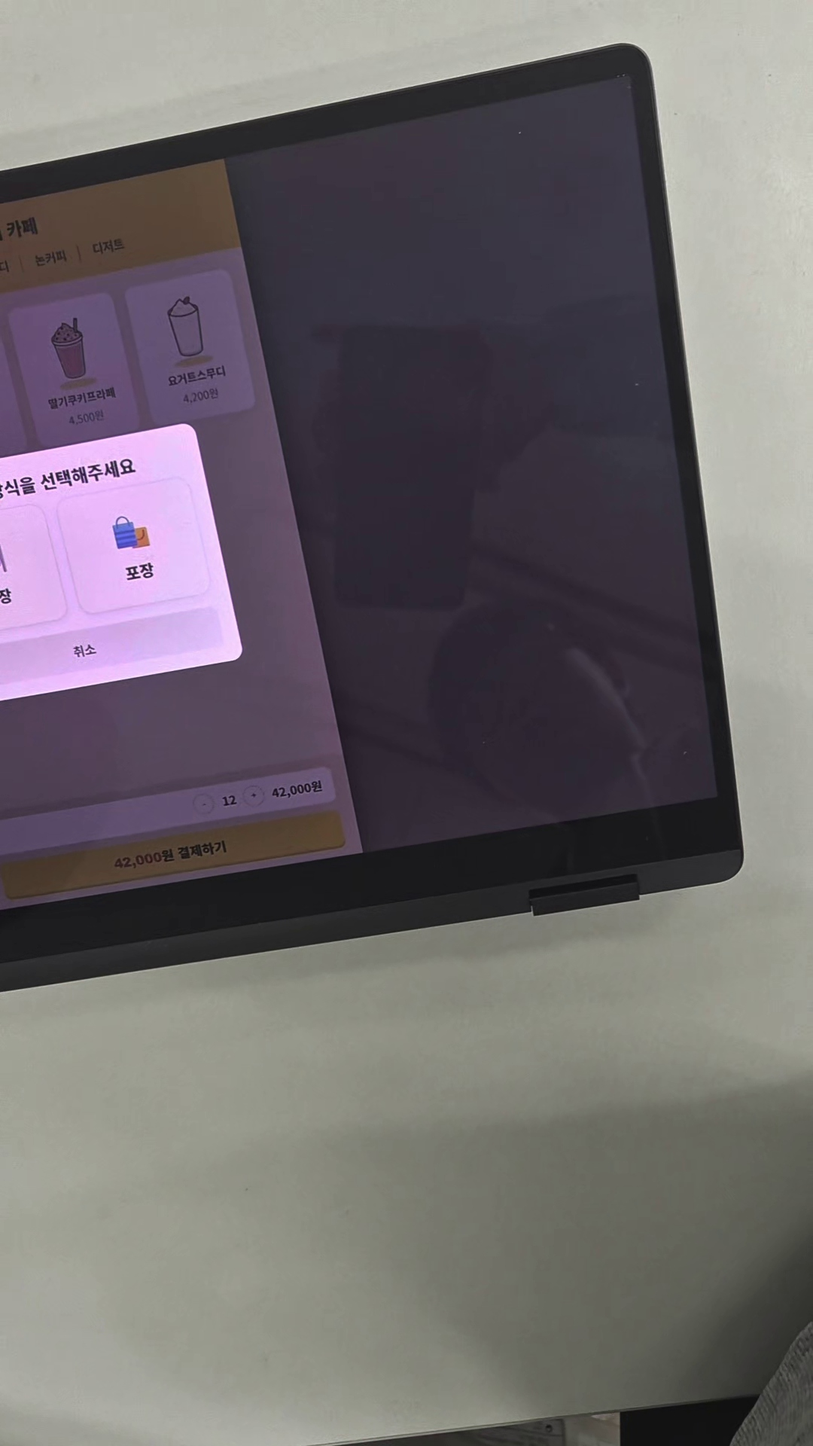action_button: (216, 606, 224, 685)
option_button: (55, 476, 212, 617)
popup_modal: (193, 422, 245, 701)
